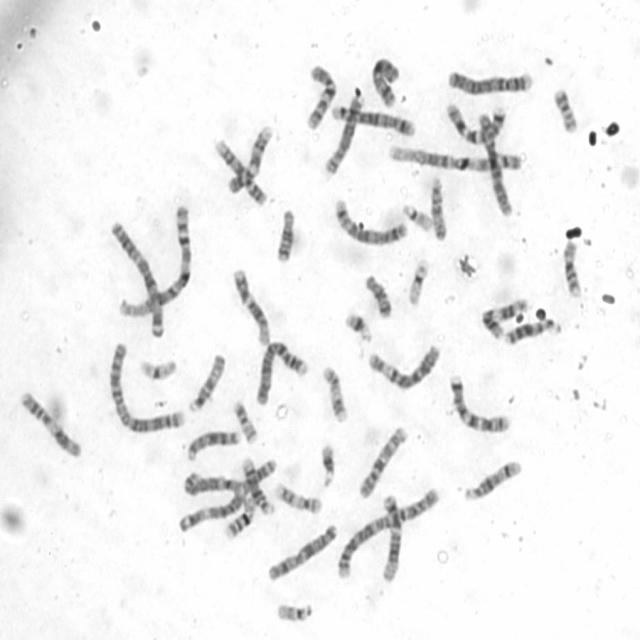A1: (117, 203, 193, 321), (388, 142, 523, 174)
A2: (336, 486, 441, 582), (107, 342, 185, 434)
A3: (177, 458, 279, 534), (107, 220, 169, 340)
B4: (254, 339, 311, 405), (447, 67, 534, 97)
B5: (333, 195, 407, 246), (329, 104, 416, 138)
C10: (356, 423, 409, 501), (304, 65, 338, 132)
C11: (17, 389, 84, 458), (479, 297, 528, 340)
C12: (228, 266, 272, 347), (381, 495, 403, 585)
C6: (476, 113, 516, 220), (367, 343, 441, 391)
C7: (448, 372, 514, 436), (444, 102, 508, 144)
C8: (323, 96, 365, 178), (183, 470, 247, 497)
C9: (215, 139, 269, 206), (226, 123, 274, 197)
D13: (185, 429, 241, 463), (502, 318, 555, 347)
D14: (463, 458, 524, 502), (240, 456, 276, 518)
D15: (186, 351, 228, 414), (430, 178, 448, 243)
E16: (558, 240, 584, 299), (223, 496, 256, 540)
E17: (274, 481, 325, 517), (320, 364, 349, 426)
E18: (275, 209, 299, 264), (366, 273, 392, 318)
F19: (405, 258, 429, 308), (138, 360, 178, 384)
F20: (552, 86, 580, 135), (231, 400, 259, 445)
G21: (343, 310, 377, 346), (318, 443, 341, 490)
G22: (270, 599, 318, 626), (400, 203, 433, 232)
X: (267, 523, 338, 584), (370, 54, 402, 109)
